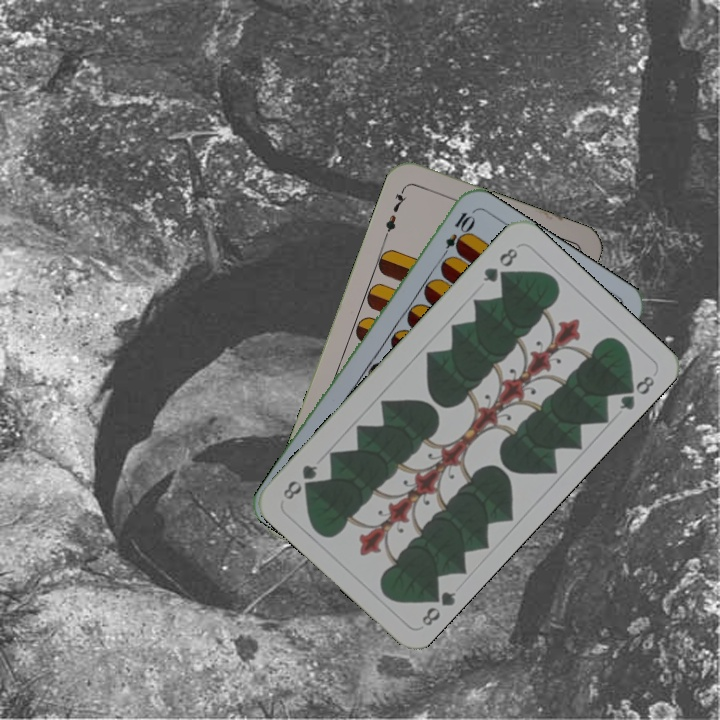E10: (436, 208, 476, 263)
E7: (380, 184, 409, 241)
G8: (417, 584, 459, 629), (478, 243, 521, 285)
